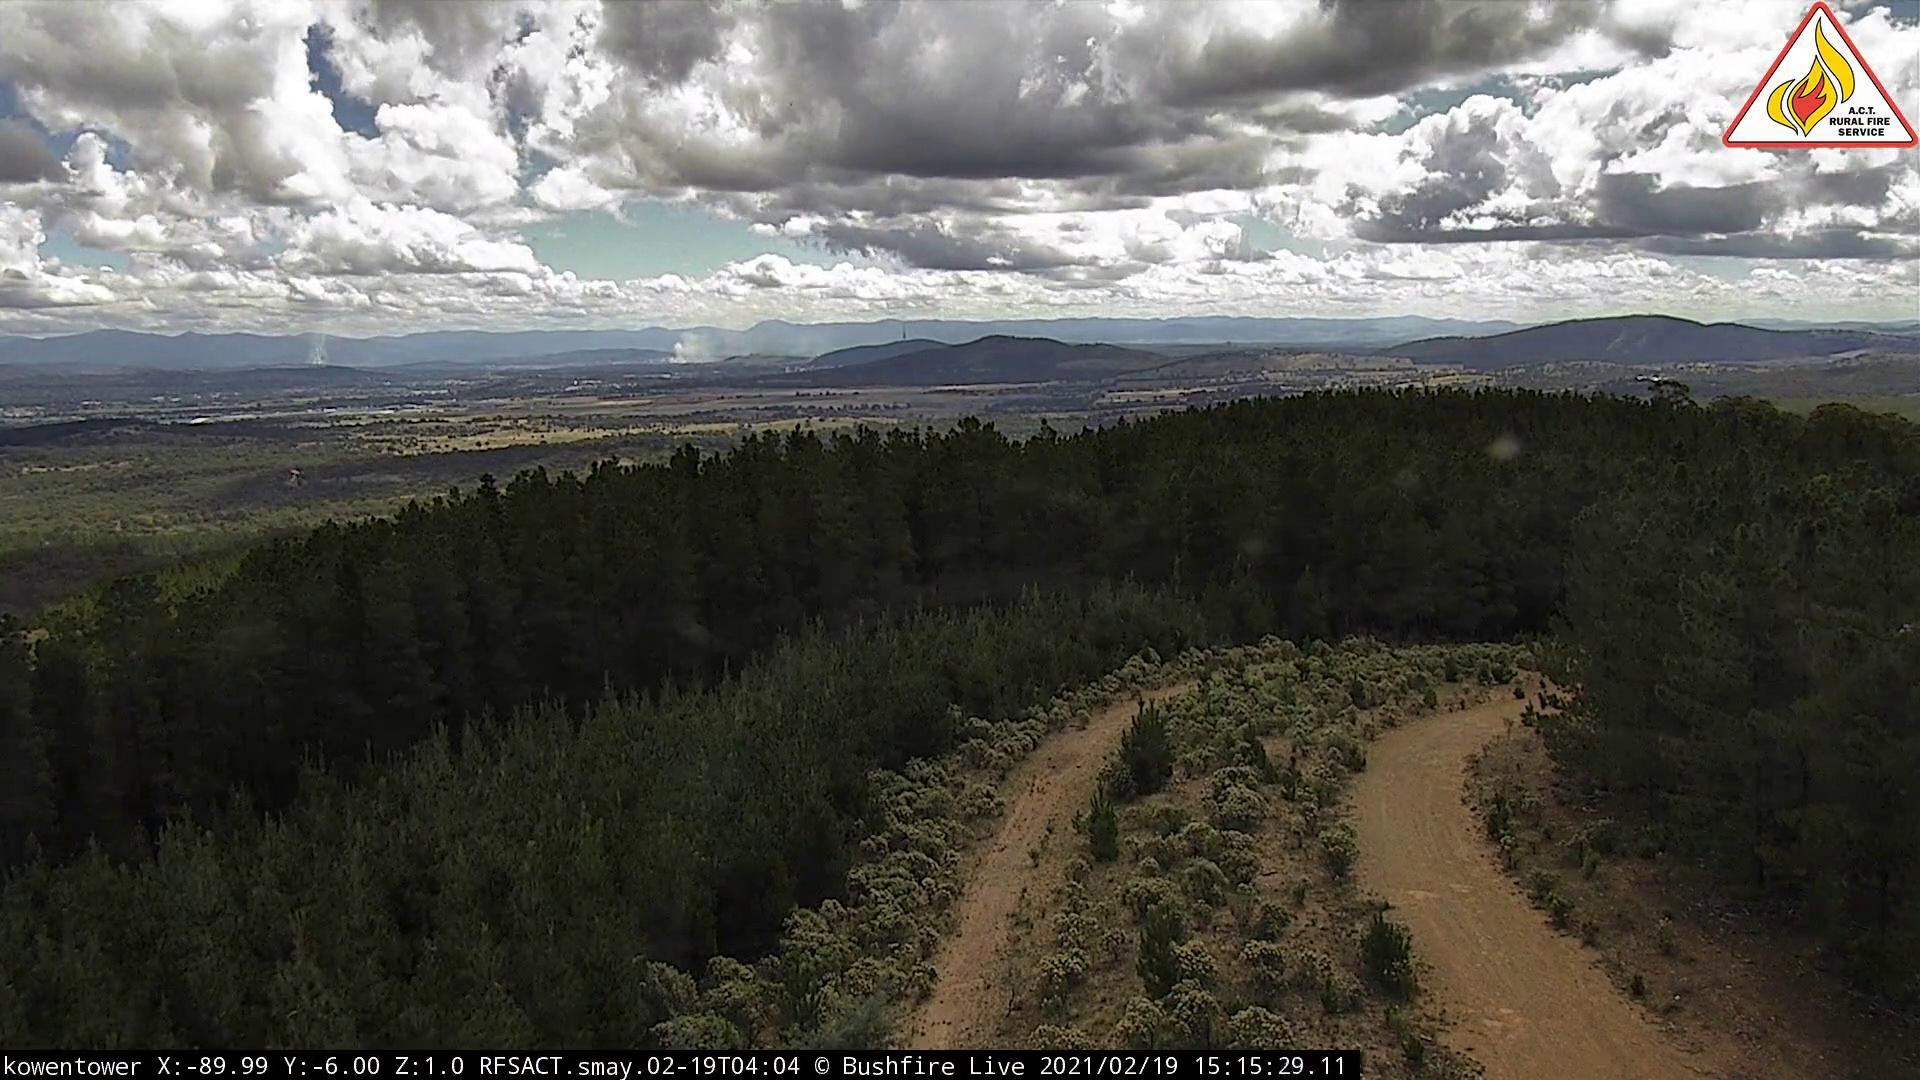Smoke: (669, 313, 767, 369), (299, 311, 345, 371)
